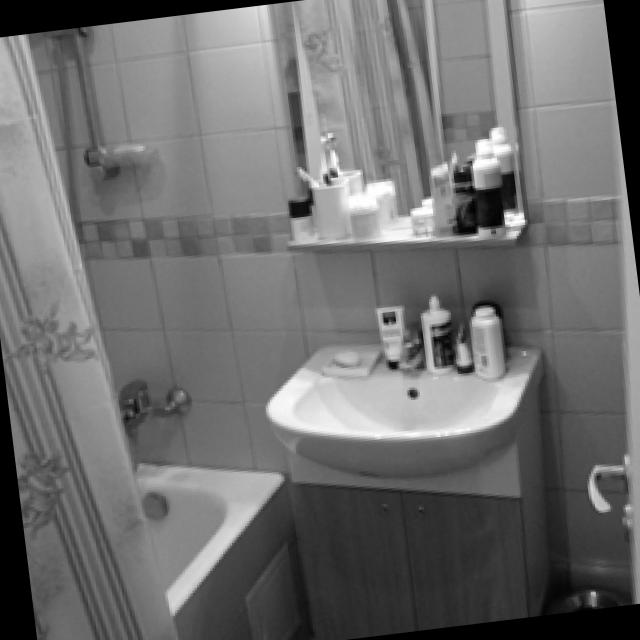bath occluded: (118, 384, 186, 429)
bathtub: (133, 459, 308, 640)
bottle crop: (469, 136, 500, 228), (416, 289, 450, 369), (472, 304, 502, 376), (450, 164, 473, 233), (345, 189, 377, 234)
cabinet door: (289, 480, 525, 640)
deoderant: (282, 193, 309, 238)
door mat: (582, 452, 626, 510)
mirror crop: (269, 0, 518, 210)
shelf crop: (278, 219, 527, 245)
shower door handle: (0, 37, 179, 640)
sink basin: (264, 341, 539, 471)
soap bottle: (110, 139, 138, 152), (334, 347, 354, 361)
soap dispenser: (96, 142, 156, 161), (318, 349, 371, 368)
toothbrush: (291, 131, 346, 234)
tube: (368, 300, 400, 365), (430, 159, 451, 231)
